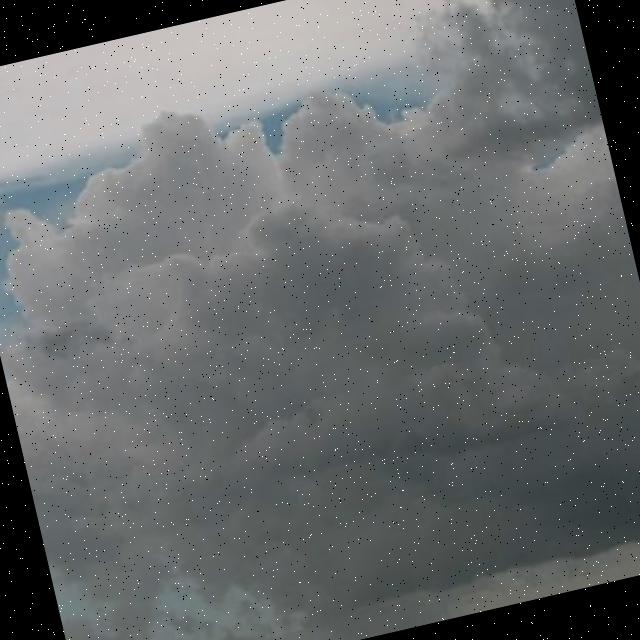Cu: (1, 1, 640, 539)
